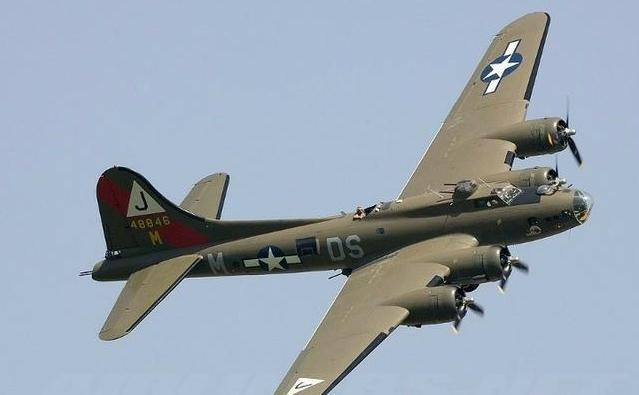airplane: (74, 9, 593, 392)
